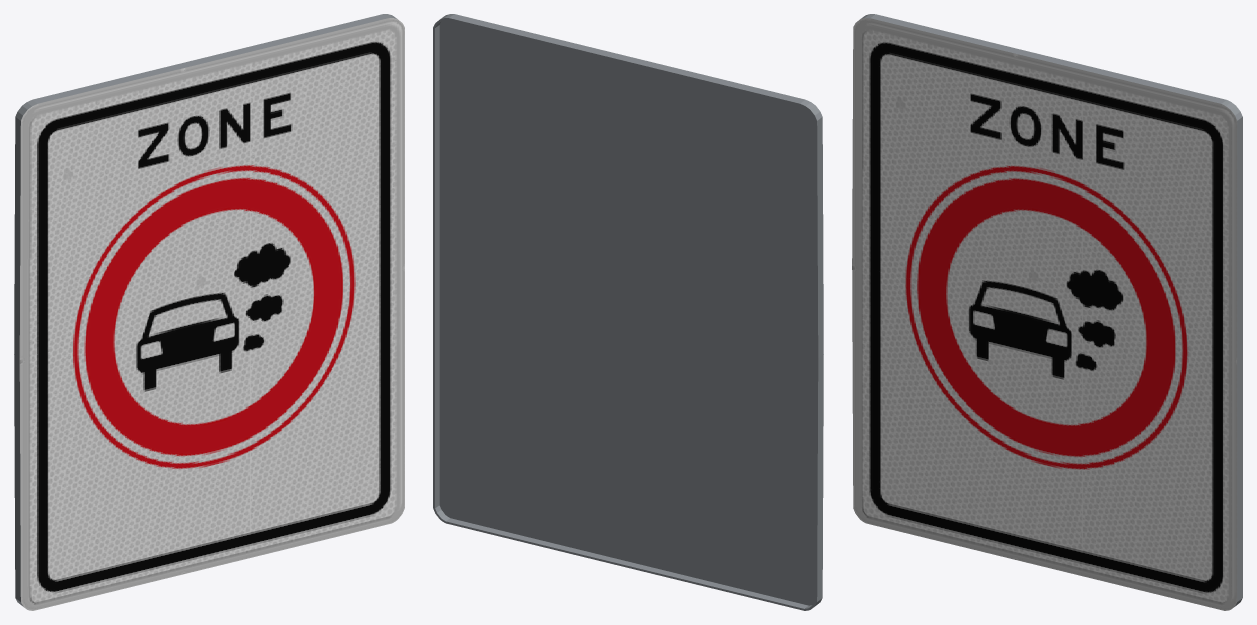
3 renders of one model, left to right at view 1: azimuth 30°, elevation 25°; view 2: azimuth 150°, elevation 25°; view 3: azimuth 330°, elevation 25°, orthographic.
Visible parts, largest first — view 1: cat_6b7bdcbe3bb32d27; view 2: cat_6b7bdcbe3bb32d27; view 3: cat_6b7bdcbe3bb32d27.
Boxes of the visible parts, bbox=[...] form: cat_6b7bdcbe3bb32d27: bbox=[14, 14, 404, 610]; cat_6b7bdcbe3bb32d27: bbox=[433, 14, 823, 610]; cat_6b7bdcbe3bb32d27: bbox=[852, 14, 1242, 610].
Bounding box in the file's own units: 0.6 × 0.015 × 0.7535.
2 materials, 1 textured.
